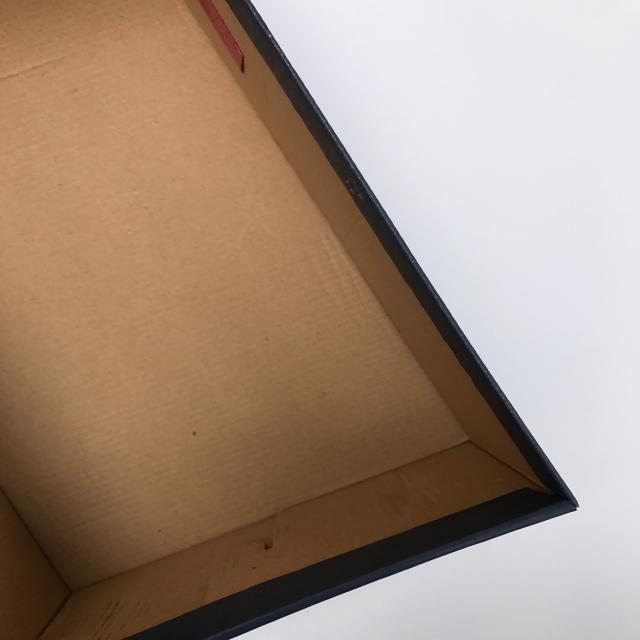cardboard: (1, 0, 579, 639)
